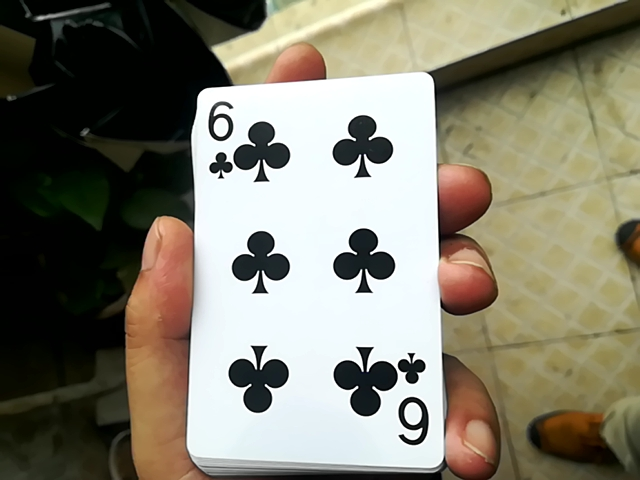mh 6: (178, 73, 450, 471)
